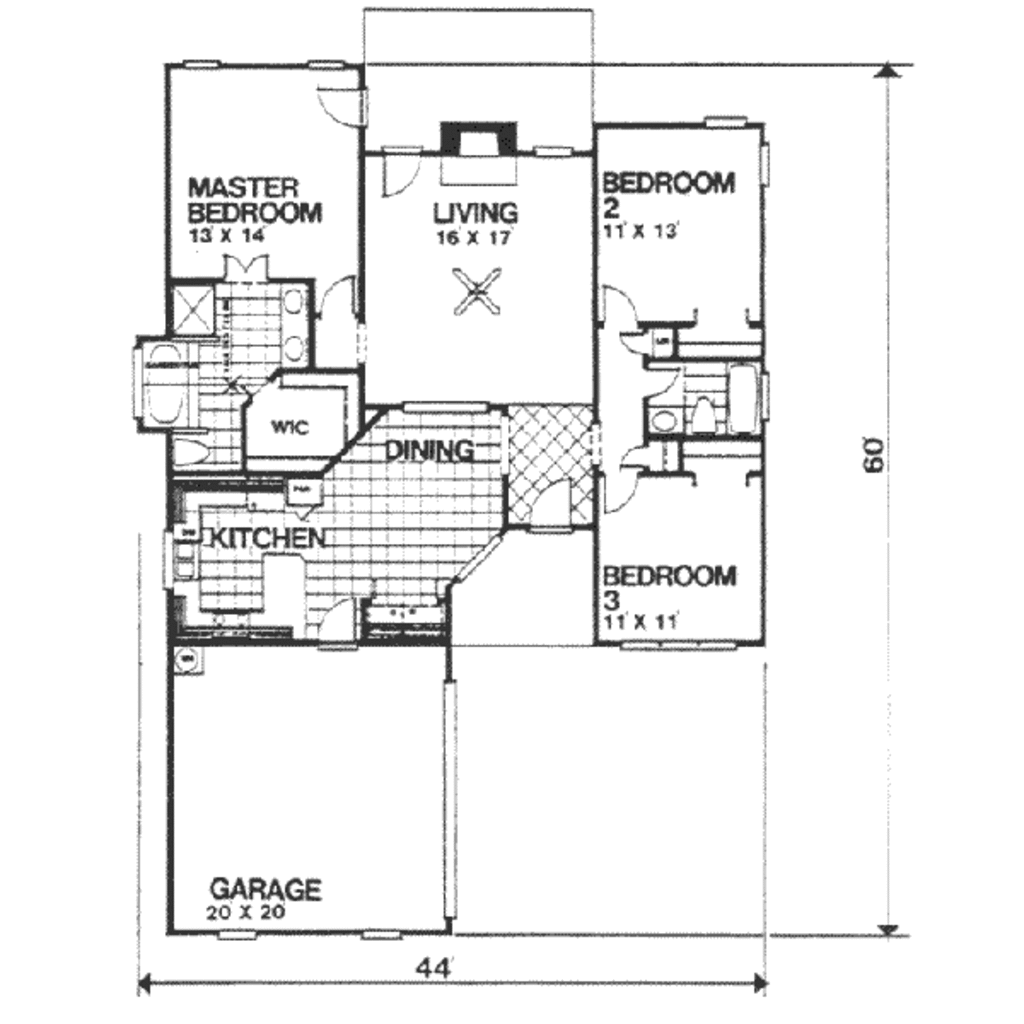door: (373, 137, 426, 202), (313, 83, 386, 130), (530, 475, 582, 540), (311, 593, 368, 652), (636, 352, 686, 404), (592, 274, 644, 322), (602, 470, 642, 527), (209, 252, 281, 283), (313, 274, 364, 316), (613, 442, 663, 473), (617, 319, 655, 356)
large_sink: (169, 432, 228, 470), (682, 392, 721, 434)
small_sink: (281, 276, 316, 365), (647, 401, 685, 434)
tub: (149, 344, 201, 434), (728, 364, 764, 441)
twin_sink: (164, 527, 213, 584)
window: (391, 393, 499, 419), (610, 634, 736, 655), (198, 921, 269, 945), (529, 141, 578, 172), (755, 137, 776, 192), (177, 57, 235, 75), (694, 112, 746, 131), (355, 926, 408, 943)
